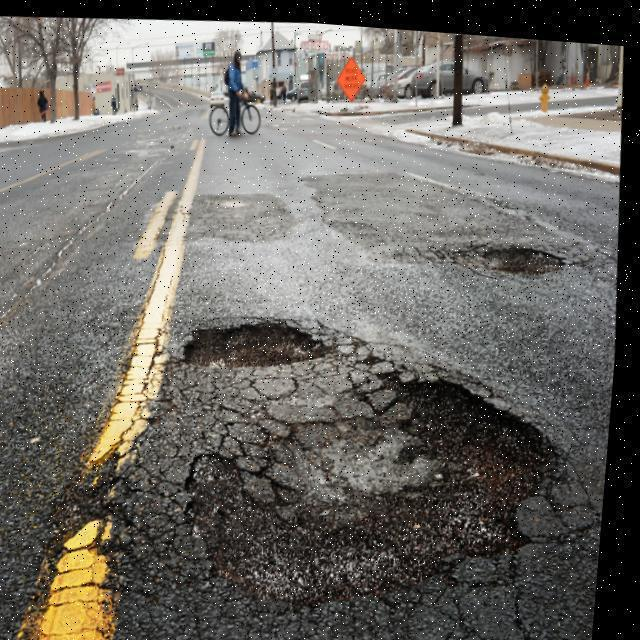Pothole: (182, 367, 565, 621), (179, 317, 330, 371), (435, 244, 568, 279)
